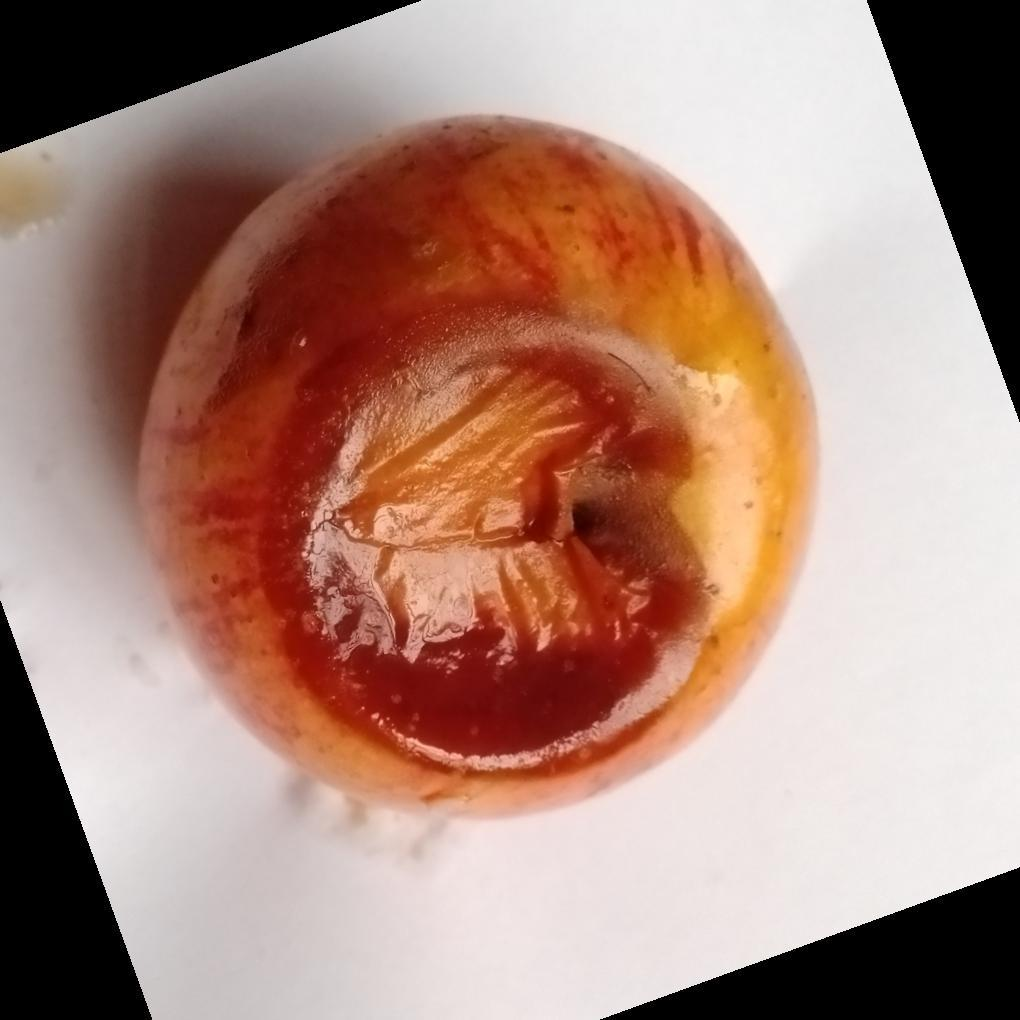FreshOrange: (133, 114, 822, 821)
